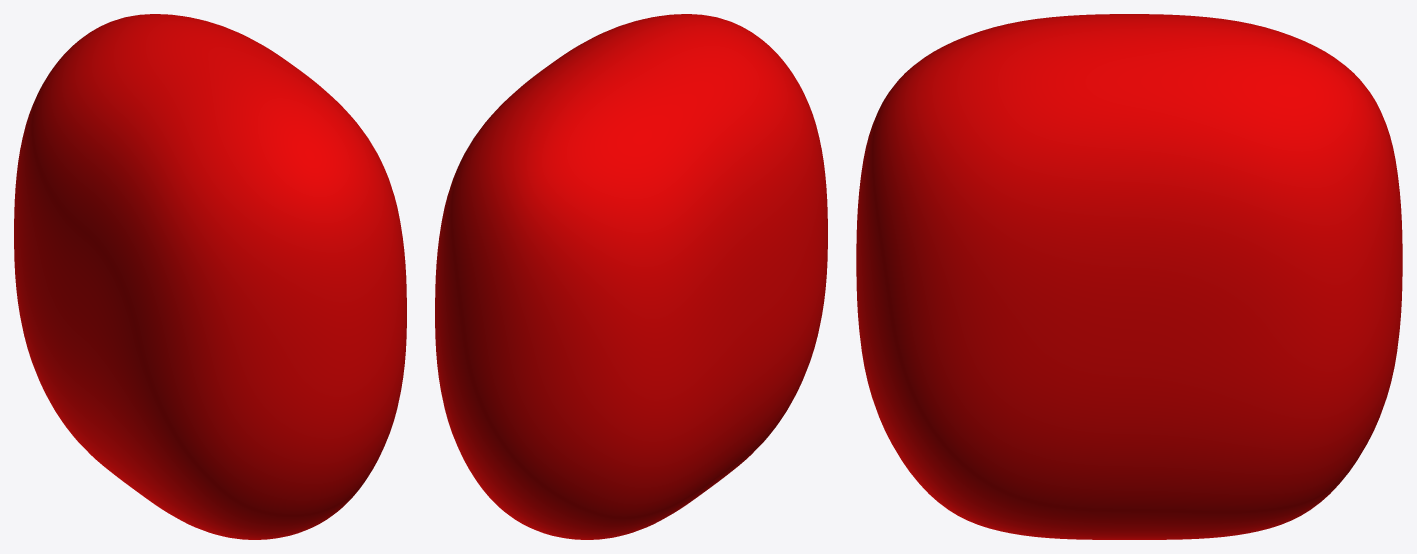
The model's file is Torso.dae.
The picture shows the model from 3 angles, left to right: view 1: azimuth 30°, elevation 25°; view 2: azimuth 150°, elevation 25°; view 3: azimuth 270°, elevation 25°; orthographic projection. The views are drawn at different scales.
Parts seen in each view (by area): view 1: Cube; view 2: Cube; view 3: Cube.
Part boxes in pixels (x1,y1,x2,y2): Cube: (14, 14, 406, 539); Cube: (435, 14, 827, 539); Cube: (856, 14, 1402, 539).
Size of the model in its own units: 1.16 by 1.88 by 1.87.
